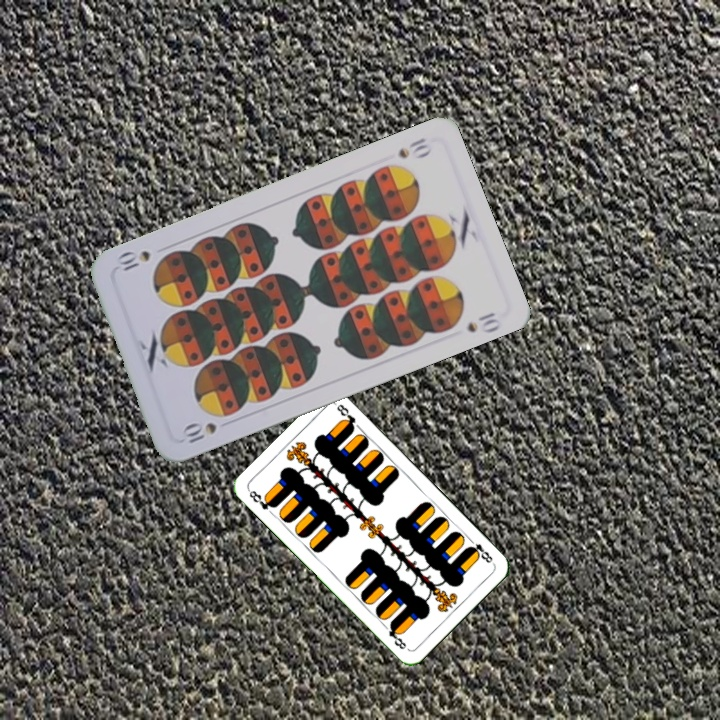E8: (464, 534, 495, 566), (245, 486, 279, 512)
S10: (178, 418, 219, 448), (393, 133, 435, 161)
